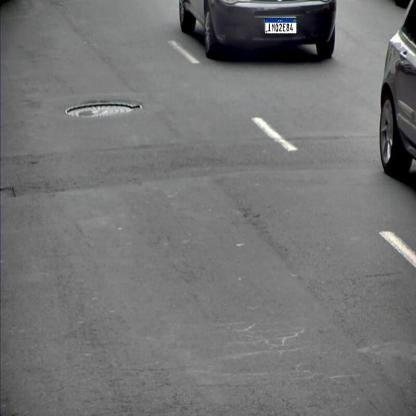PlacaM: (265, 18, 297, 34)
